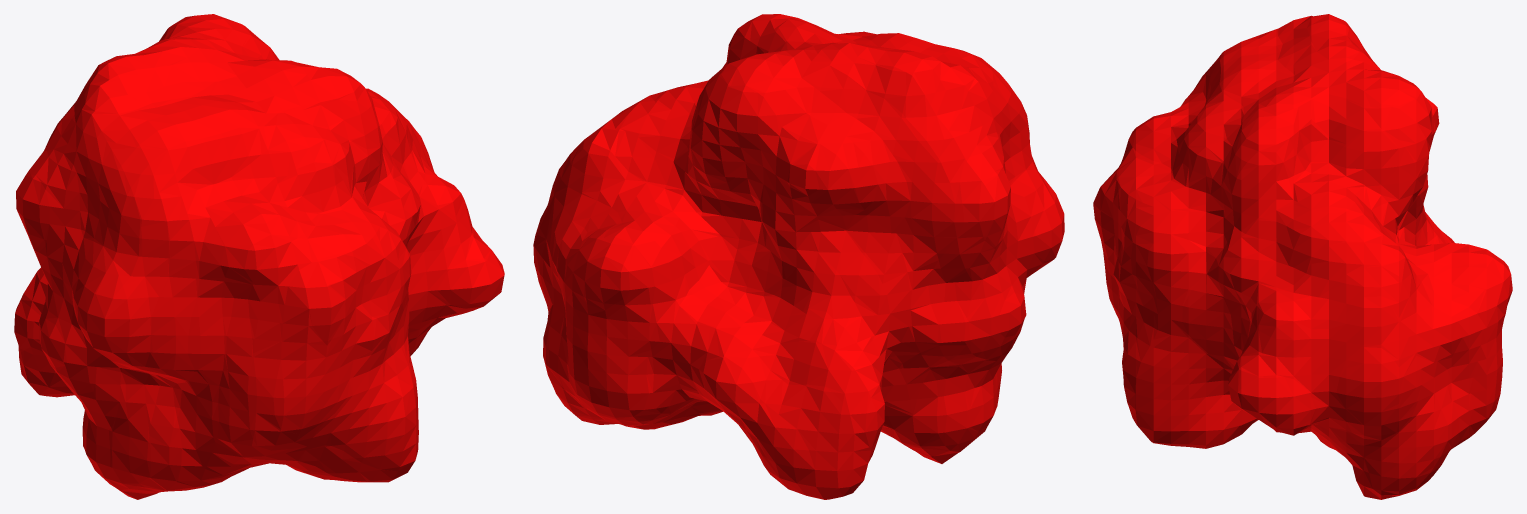
Rendered from ppnN_coarse.dae.
3 renders of one model, left to right at view 1: azimuth 30°, elevation 25°; view 2: azimuth 150°, elevation 25°; view 3: azimuth 270°, elevation 25°, orthographic. The views are drawn at different scales.
Visible parts, largest first — view 1: ppnN; view 2: ppnN; view 3: ppnN.
Boxes of the visible parts, <box> form: ppnN: <box>14,14,504,499</box>; ppnN: <box>533,14,1064,499</box>; ppnN: <box>1093,14,1512,499</box>.
Size of the model in its own units: 64.25 by 58.32 by 59.41.
